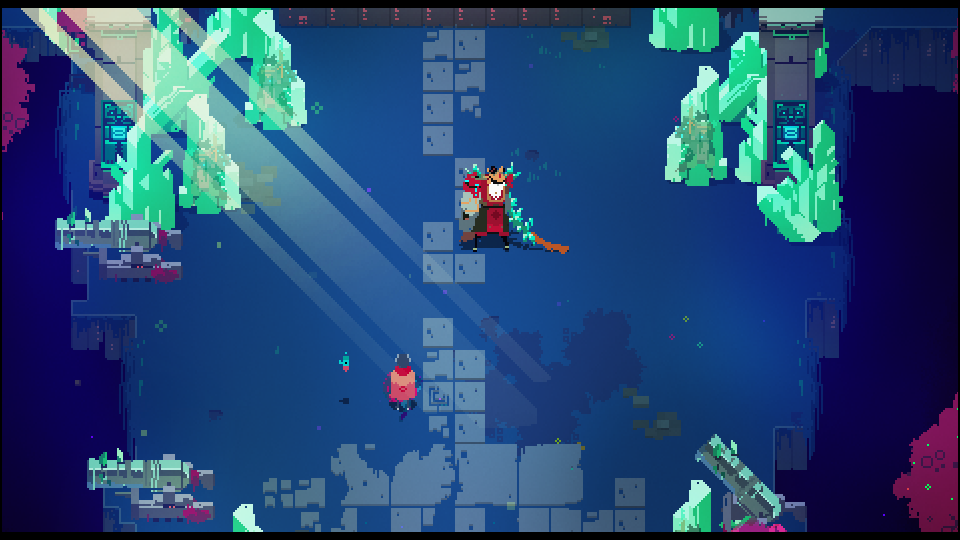hanged_man: (450, 163, 551, 255)
player: (388, 352, 417, 411)
